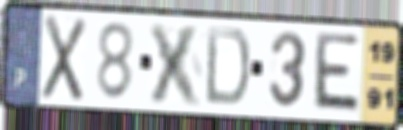3: (266, 30, 308, 112)
8: (94, 20, 136, 103)
D: (203, 24, 252, 110)
E: (310, 29, 362, 117)
X: (146, 20, 205, 109), (39, 12, 89, 104)
